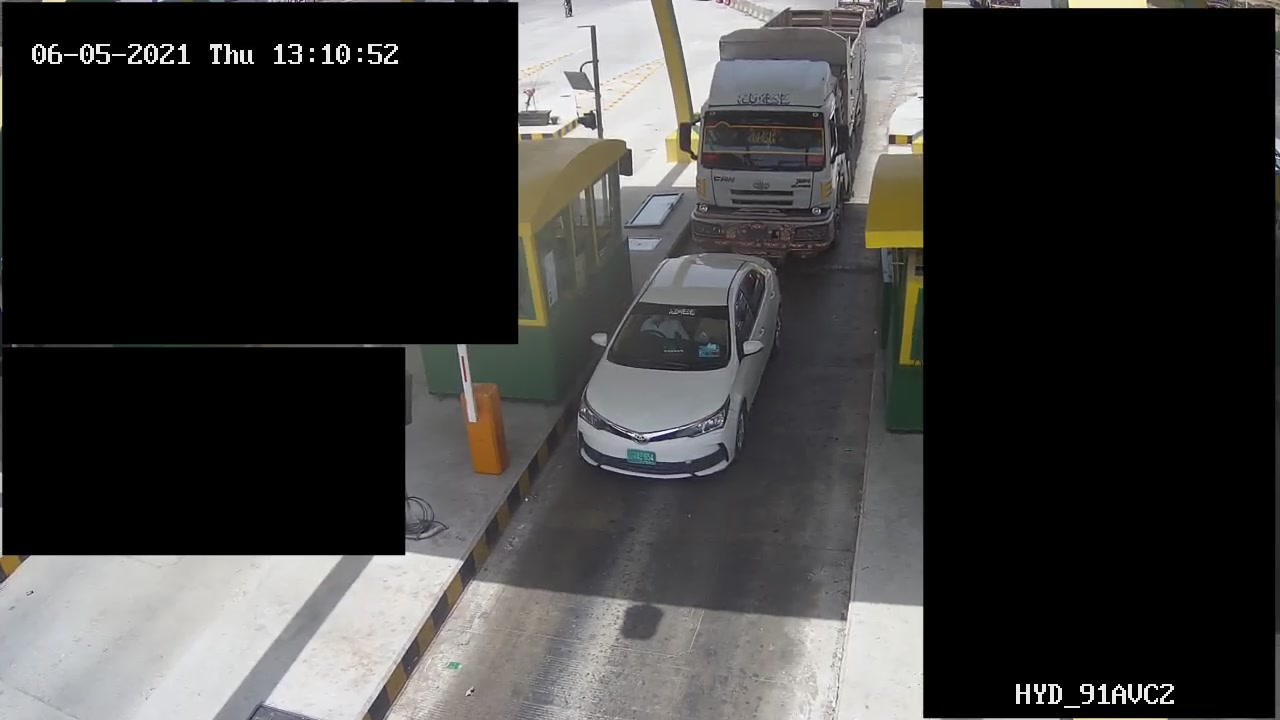F1: (571, 244, 782, 487)
F5: (678, 3, 864, 262)
